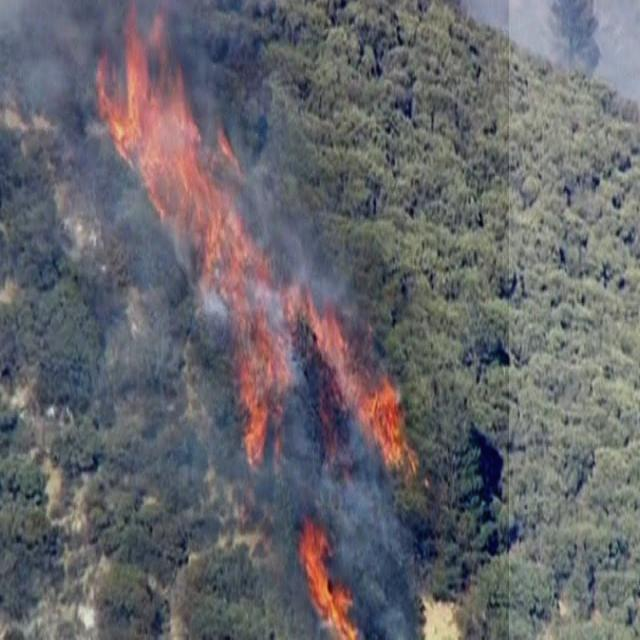Fire: (114, 60, 306, 460), (314, 304, 430, 482), (301, 528, 361, 640)
Smoke: (0, 0, 509, 640)
